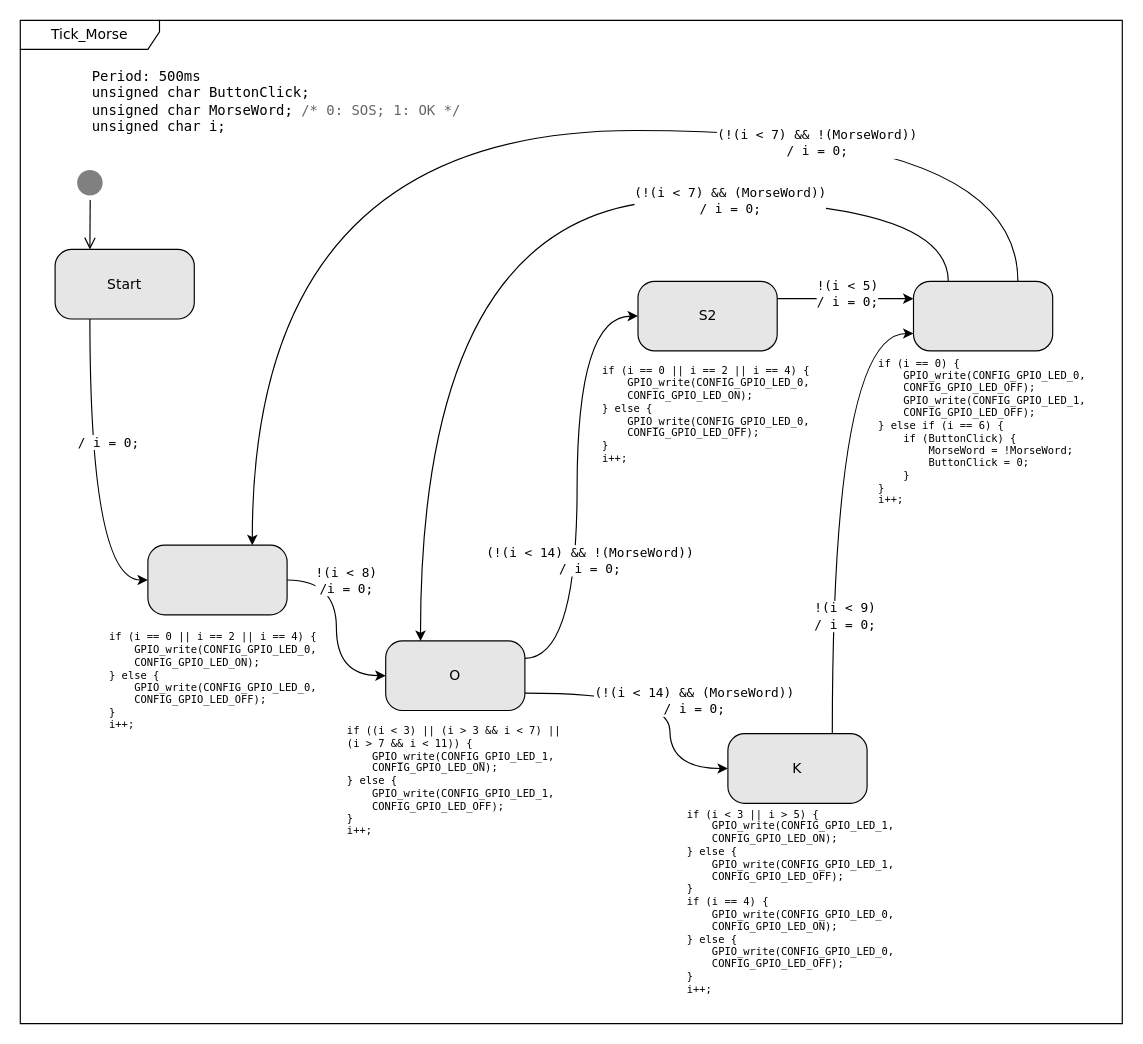
The diagram is 1143 pixels wide and 1044 high, and some of its shapes have lost their labels. Here are the shapes that lost their labels. From the top down, the centre of each, then its label:
pixel 982 315: Pause
pixel 217 579: S1
